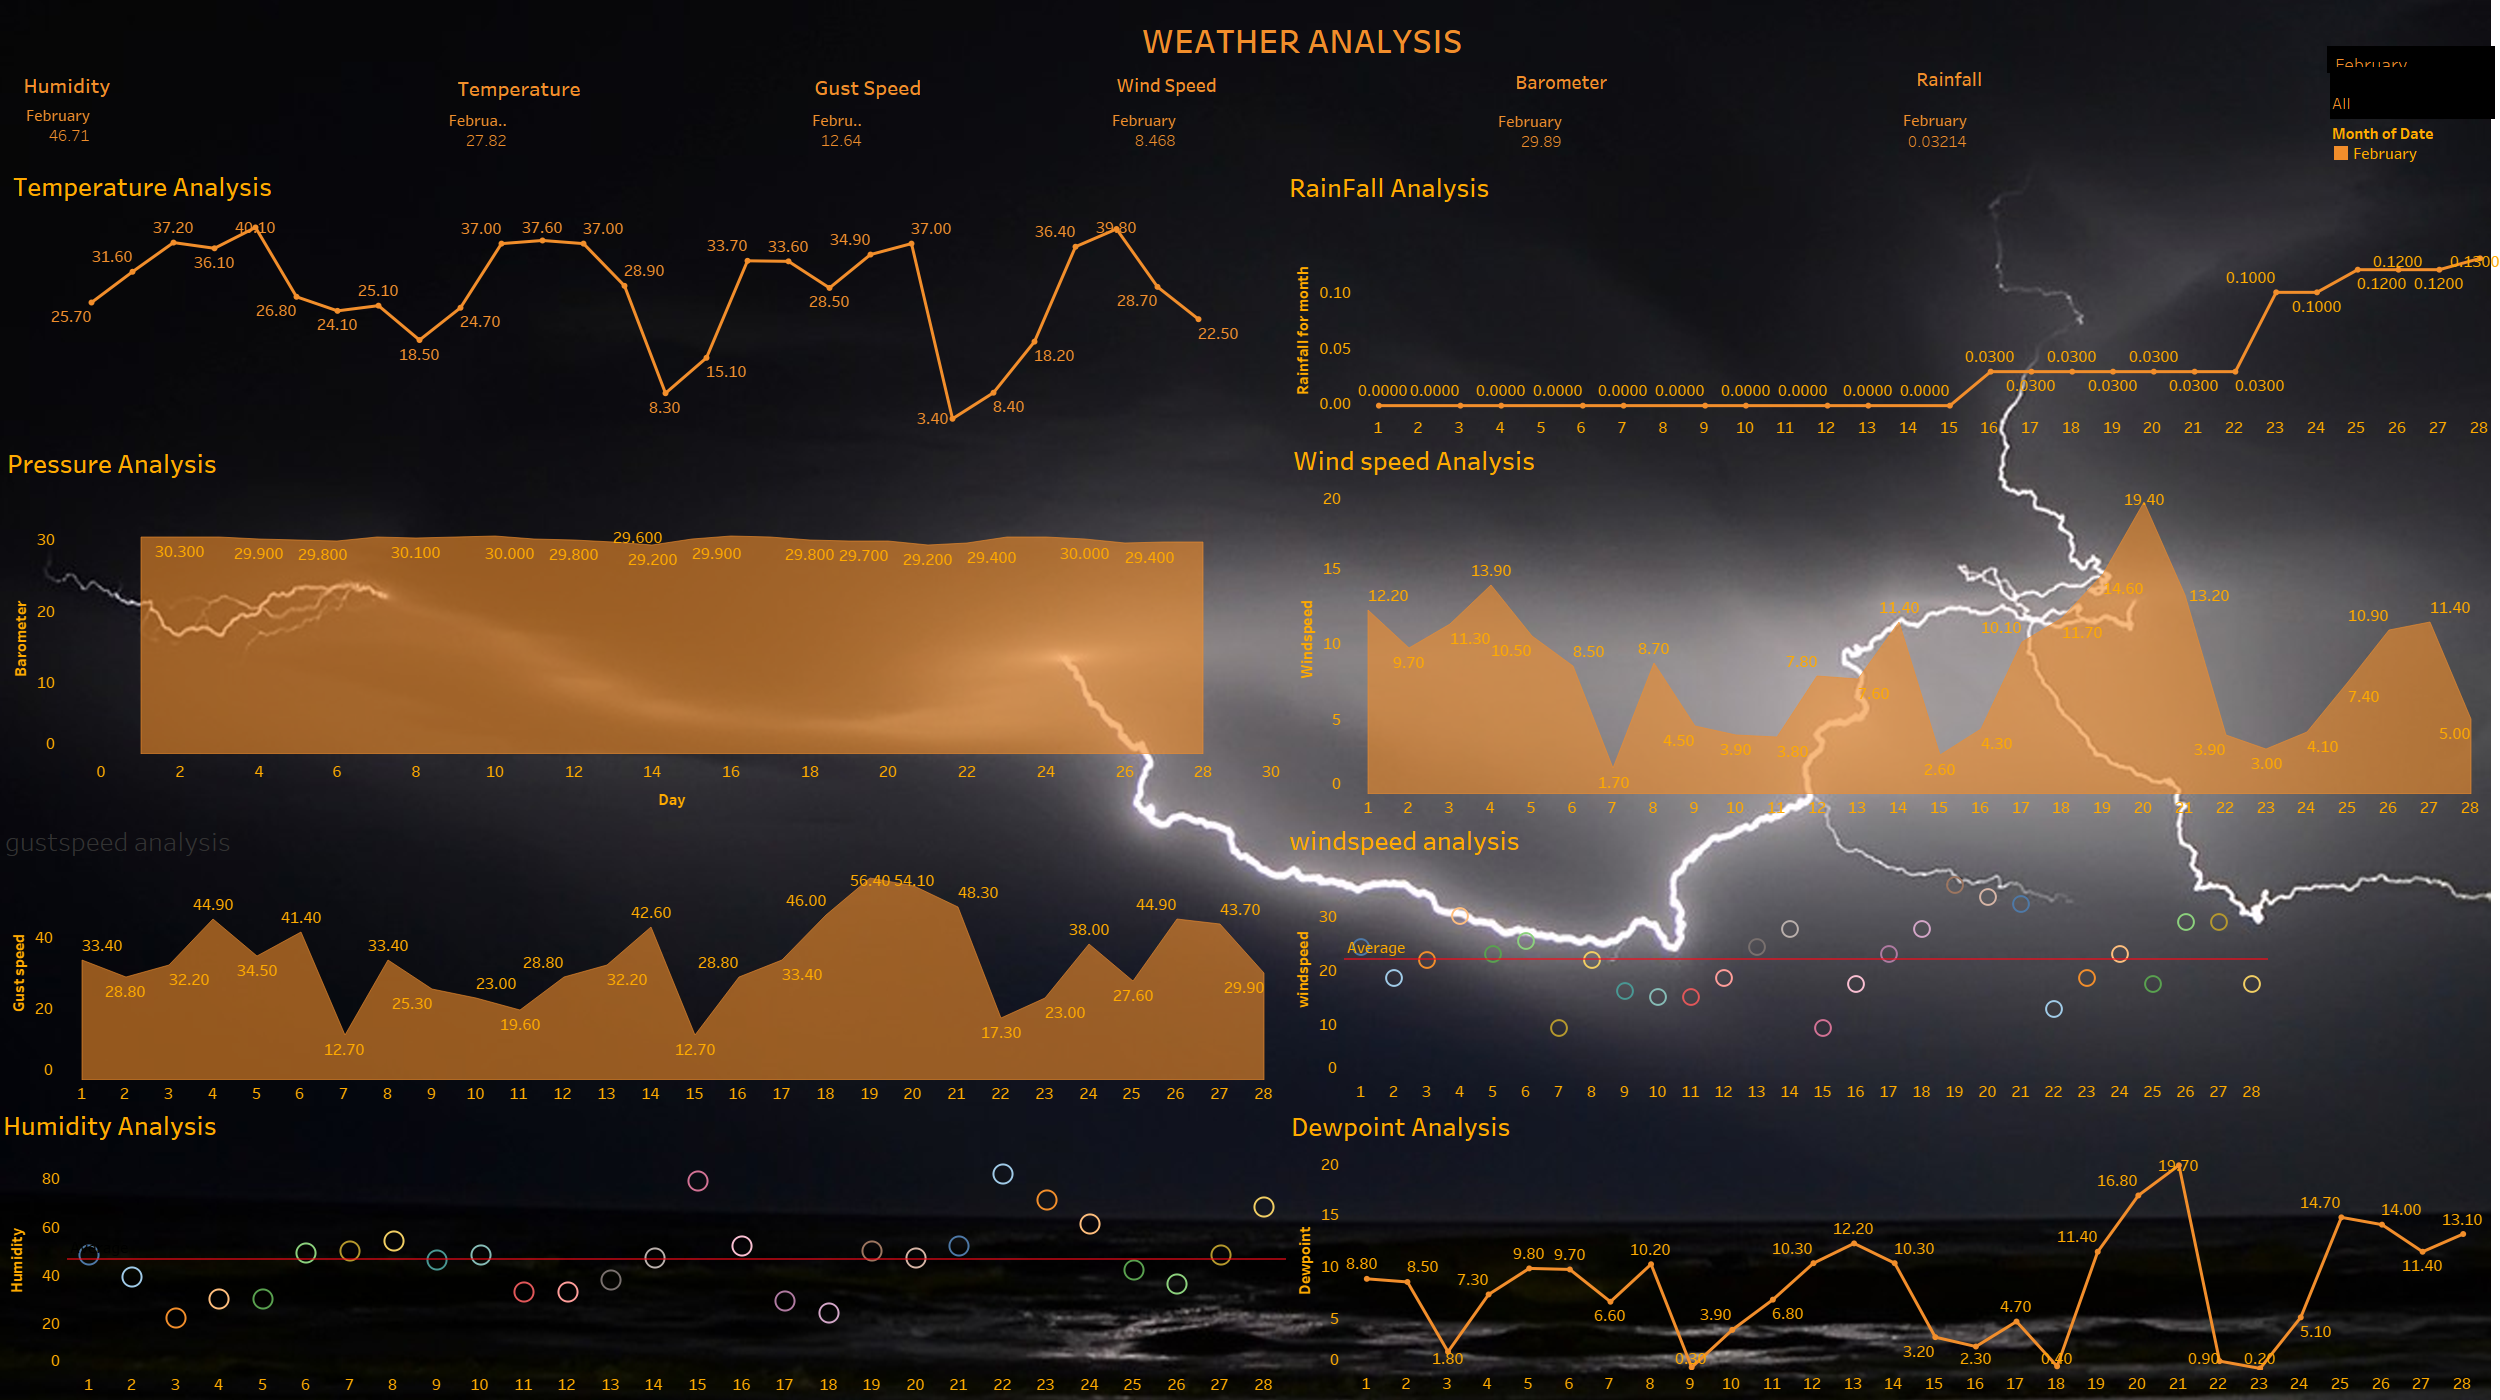

The page's visual inventory and layout, read from the dashboard file:
{"tool":"tableau","page":{"name":"Dashboard 1","canvas":[2500,1400],"ordinal":0},"visuals":[{"type":"text","box":[1102.4,3.9,400,71.4]},{"type":"filter","title":"Sheet 10","param":"[federated.0jsqtw80ryvr9v18d5jj30ukak3k].[mn:Date:ok]","box":[2327.4,46.3,167.9,27]},{"type":"text","box":[1913.1,52.1,158.3,54.1]},{"type":"text","box":[1511.9,55,158.3,54.1]},{"type":"text","box":[1113.1,57.9,169.1,54.1]},{"type":"worksheet","title":"Sheet 14","mark":"Automatic","cols":["Date"],"box":[1883.3,59,438.1,93]},{"type":"worksheet","title":"Sheet 13","mark":"Automatic","cols":["Date"],"box":[1477.4,60.8,432.2,92.7]},{"type":"text","box":[20.2,65.7,214.3,38.6]},{"type":"text","box":[453.6,67.6,277.4,40.6]},{"type":"text","box":[810.7,70.5,188.1,33.8]},{"type":"filter","title":"Sheet1","param":"[federated.0jsqtw80ryvr9v18d5jj30ukak3k].[dy:Date:ok]","box":[2329.8,71.4,165.5,47.3]},{"type":"worksheet","title":"Sheet 12","mark":"Automatic","cols":["Date"],"box":[1103.6,94.6,370.2,58.9]},{"type":"worksheet","title":"Sheet 9","mark":"Automatic","cols":["Date"],"box":[14.3,105.2,407.2,53.1]},{"type":"worksheet","title":"Sheet 10","mark":"Automatic","cols":["Date"],"box":[440.5,110.1,359.5,47.3]},{"type":"worksheet","title":"Sheet 11","mark":"Automatic","cols":["Date"],"box":[806,110.1,292.9,46.3]},{"type":"legend","title":"Sheet 6","param":"[federated.0jsqtw80ryvr9v18d5jj30ukak3k].[mn:Date:ok]","box":[2331,120.7,165.5,104.3]},{"type":"worksheet","title":"Sheet1","mark":"Automatic","rows":["Average temperature"],"cols":["Date","Date"],"box":[7.4,163.3,1276.5,276.3]},{"type":"worksheet","title":"Sheet 2","mark":"Automatic","rows":["Rainfall for month"],"cols":["Date","Date"],"box":[1285.3,164.3,1214.7,275.3]},{"type":"worksheet","title":"Sheet 4","mark":"Area","rows":["Average windspeed"],"cols":["Date","Date"],"box":[1289.3,437.4,1202.4,382.3]},{"type":"worksheet","title":"Sheet 5","mark":"Area","rows":["Average barometer"],"cols":["Date","Date"],"box":[3,439.6,1279.4,377.1]},{"type":"worksheet","title":"Sheet 8","mark":"Shape","rows":["Maximum windspeed"],"cols":["Date","Date"],"box":[1285,817,1213,286]},{"type":"worksheet","title":"Sheet 7","mark":"Area","rows":["Maximum gust speed"],"cols":["Date","Date"],"box":[1.5,817.6,1285.3,287.5]},{"type":"worksheet","title":"Sheet 6","mark":"Line","rows":["Average dewpoint"],"cols":["Date","Date"],"box":[1286.8,1103.2,1195.6,292.1]}]}

Visuals, with their boxes in screenshot pixels (x1, y1, x2, y2), scaled from the page's 2500x1400 canvas onto the 2500x1400 screenshot:
text: region(1102, 4, 1502, 75)
"Sheet 10" filter: region(2327, 46, 2495, 73)
text: region(1913, 52, 2071, 106)
text: region(1512, 55, 1670, 109)
text: region(1113, 58, 1282, 112)
"Sheet 14" worksheet: region(1883, 59, 2321, 152)
"Sheet 13" worksheet: region(1477, 61, 1910, 154)
text: region(20, 66, 234, 104)
text: region(454, 68, 731, 108)
text: region(811, 70, 999, 104)
"Sheet1" filter: region(2330, 71, 2495, 119)
"Sheet 12" worksheet: region(1104, 95, 1474, 154)
"Sheet 9" worksheet: region(14, 105, 422, 158)
"Sheet 10" worksheet: region(440, 110, 800, 157)
"Sheet 11" worksheet: region(806, 110, 1099, 156)
"Sheet 6" legend: region(2331, 121, 2496, 225)
"Sheet1" worksheet: region(7, 163, 1284, 440)
"Sheet 2" worksheet: region(1285, 164, 2499, 440)
"Sheet 4" worksheet (Area marks): region(1289, 437, 2492, 820)
"Sheet 5" worksheet (Area marks): region(3, 440, 1282, 817)
"Sheet 8" worksheet (Shape marks): region(1285, 817, 2498, 1103)
"Sheet 7" worksheet (Area marks): region(2, 818, 1287, 1105)
"Sheet 6" worksheet (Line marks): region(1287, 1103, 2482, 1395)
